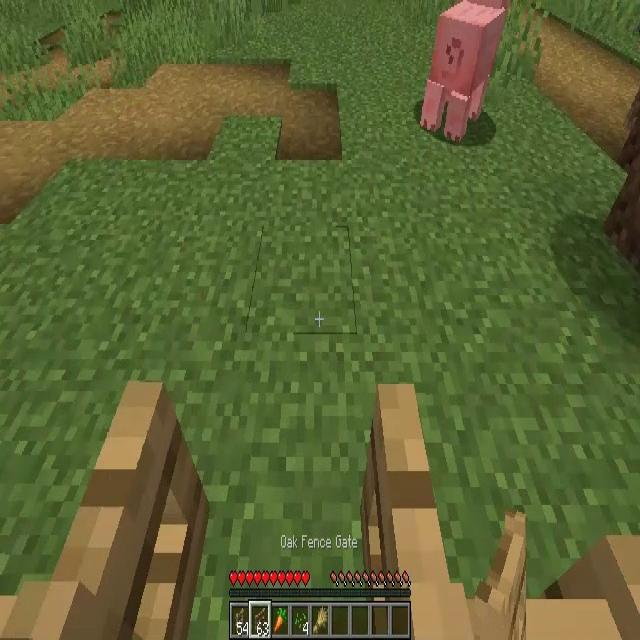pig: (420, 0, 504, 137)
